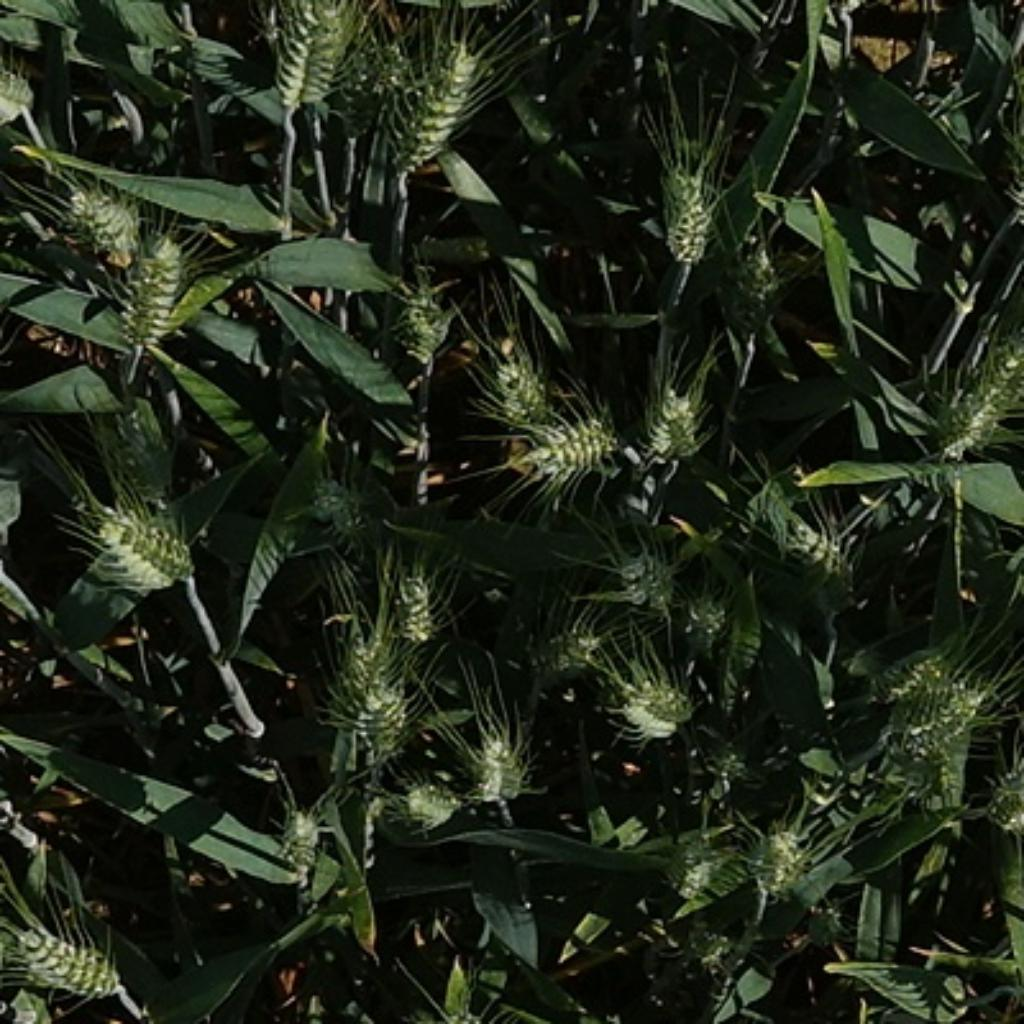0-0: (732, 465, 860, 622), (911, 322, 1024, 463), (317, 611, 422, 762), (872, 671, 990, 780), (396, 38, 486, 178), (112, 224, 190, 356), (2, 928, 128, 1000), (95, 502, 199, 589), (512, 407, 614, 483), (271, 4, 341, 113), (517, 606, 604, 691), (657, 162, 727, 266), (381, 550, 448, 655), (478, 348, 563, 430), (739, 816, 819, 903), (634, 378, 711, 468), (455, 721, 532, 803), (614, 663, 698, 737), (371, 22, 425, 137), (606, 540, 688, 614), (672, 822, 747, 901), (865, 647, 952, 714), (389, 273, 455, 360), (69, 180, 141, 254), (668, 581, 737, 657), (726, 228, 792, 307), (331, 22, 379, 125), (306, 474, 374, 543), (274, 801, 333, 874), (396, 777, 460, 830), (1021, 476, 1024, 583)
